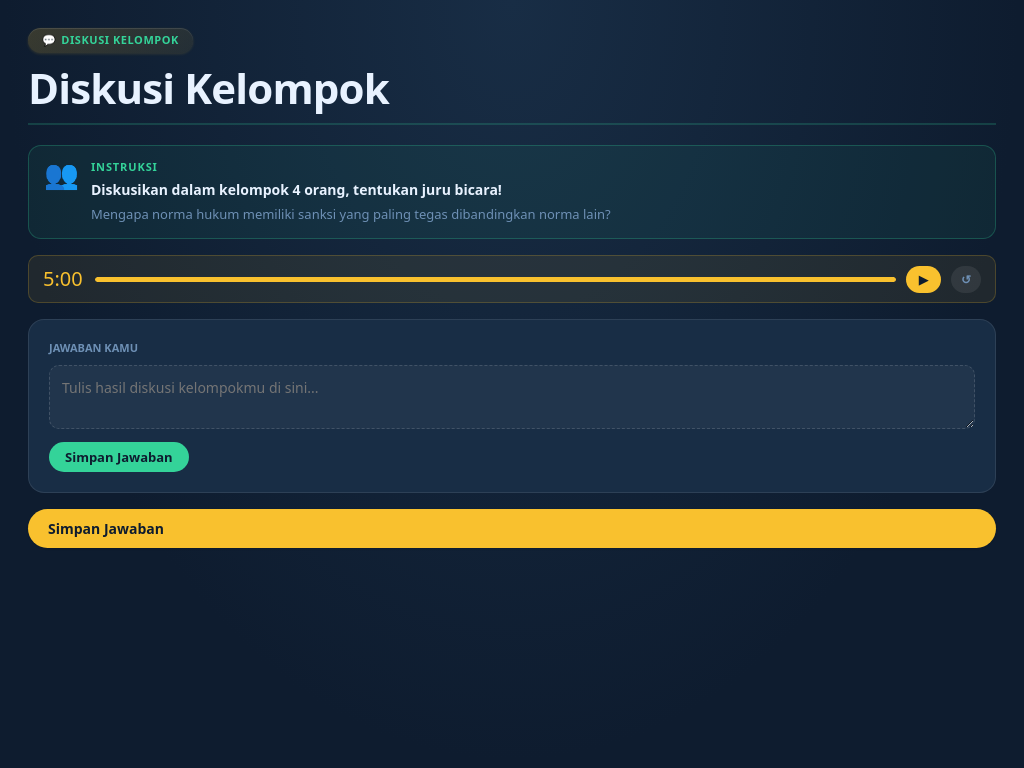
Test: GOLDEN-REFERENCE-PRODUCT-GATE-01 — Scope C: Interaction Gate › 15. save response menampilkan badge (behavior: badge appears after save)
What coordinates should you click on to do the following:
click the button with test id "save-response"
I would click on:
 (119, 457)
Its box is [49, 442, 189, 472].
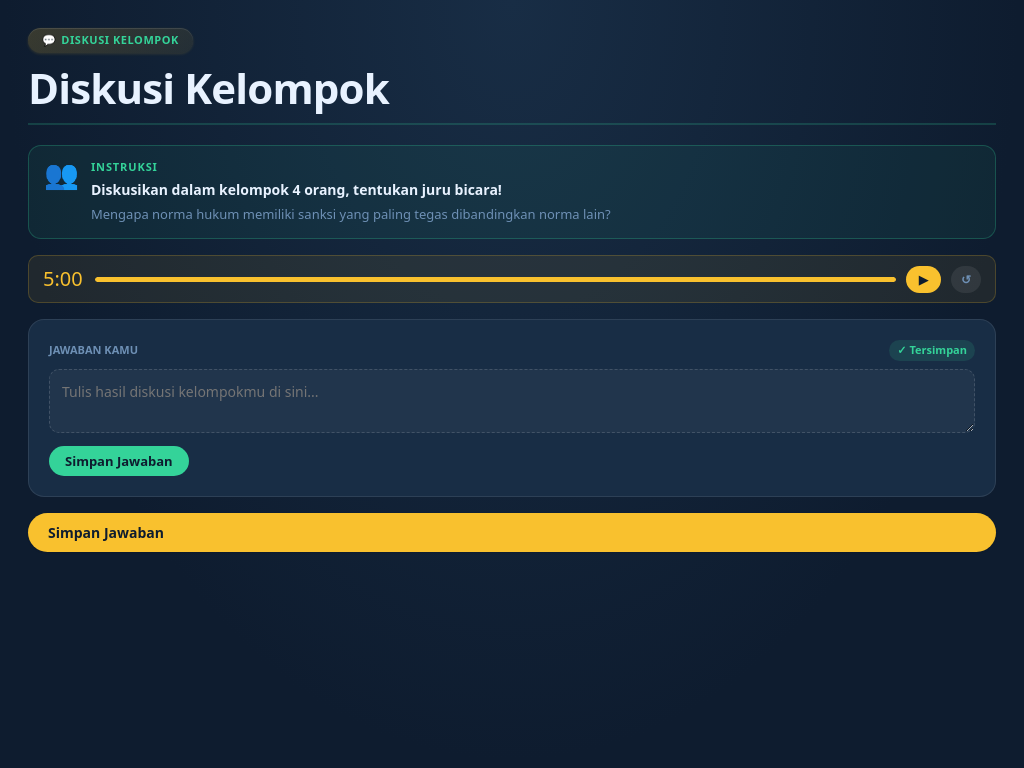
Expected: the text "✓ Tersimpan" is shown, [889, 340, 975, 361]
